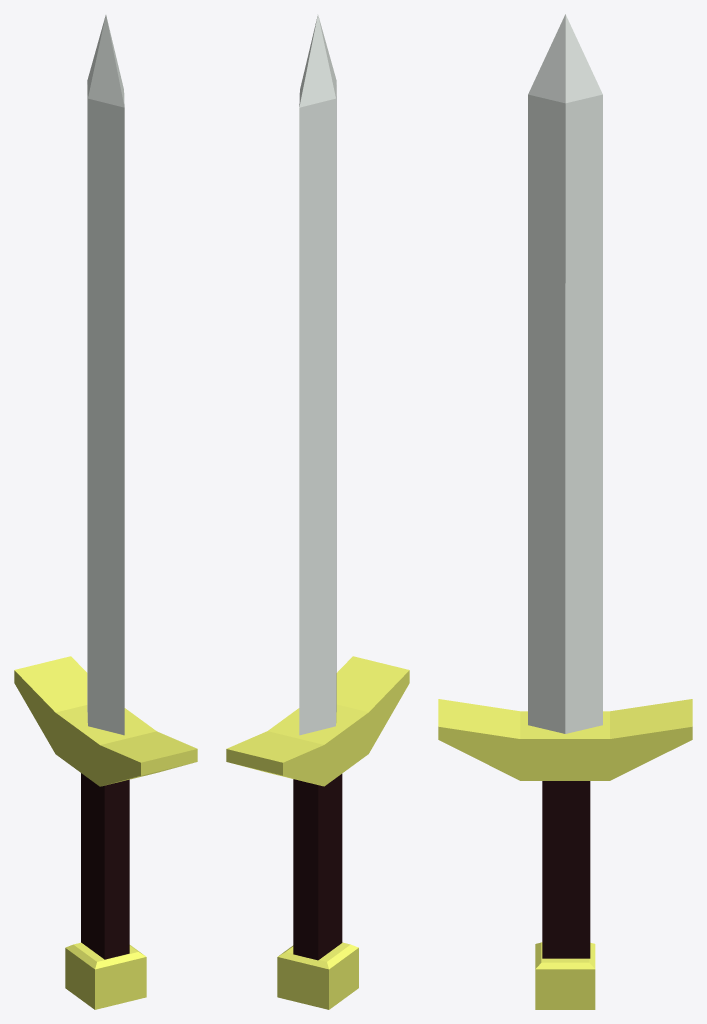
Rendered from sword tutorial.fbx.
3 renders of one model, left to right at view 1: azimuth 30°, elevation 25°; view 2: azimuth 150°, elevation 25°; view 3: azimuth 270°, elevation 25°, orthographic.
Visible parts, largest first — view 1: Lama, Guardia, Manico, Pomolo; view 2: Lama, Guardia, Manico, Pomolo; view 3: Lama, Guardia, Manico, Pomolo.
Part boxes in pixels (x1,y1,x2,y2): Lama: (87, 15, 124, 735); Guardia: (14, 656, 197, 786); Manico: (81, 773, 129, 959); Pomolo: (65, 942, 146, 1009); Lama: (299, 15, 336, 735); Guardia: (226, 656, 409, 786); Manico: (293, 774, 342, 960); Pomolo: (277, 942, 358, 1009); Lama: (528, 14, 602, 733); Guardia: (438, 699, 692, 780); Manico: (542, 781, 590, 958); Pomolo: (535, 942, 595, 1009).
Size of the model in its own units: 22 by 362 by 85.
